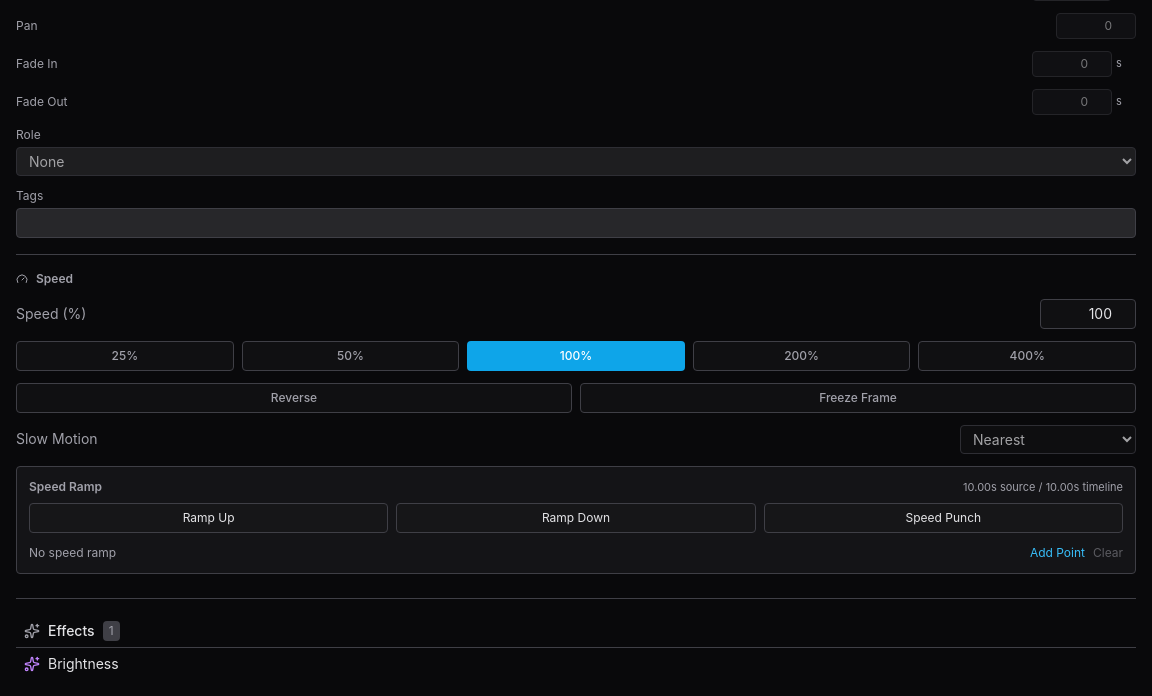
Test case: Inspector › renders the selected effect inspector after choosing an effect
This screenshot has width=1152, height=696.
(page scrolled)
Click the list item with test id "effect-item-effect-1": (71, 664) [24,655,119,672]
(page scrolled)
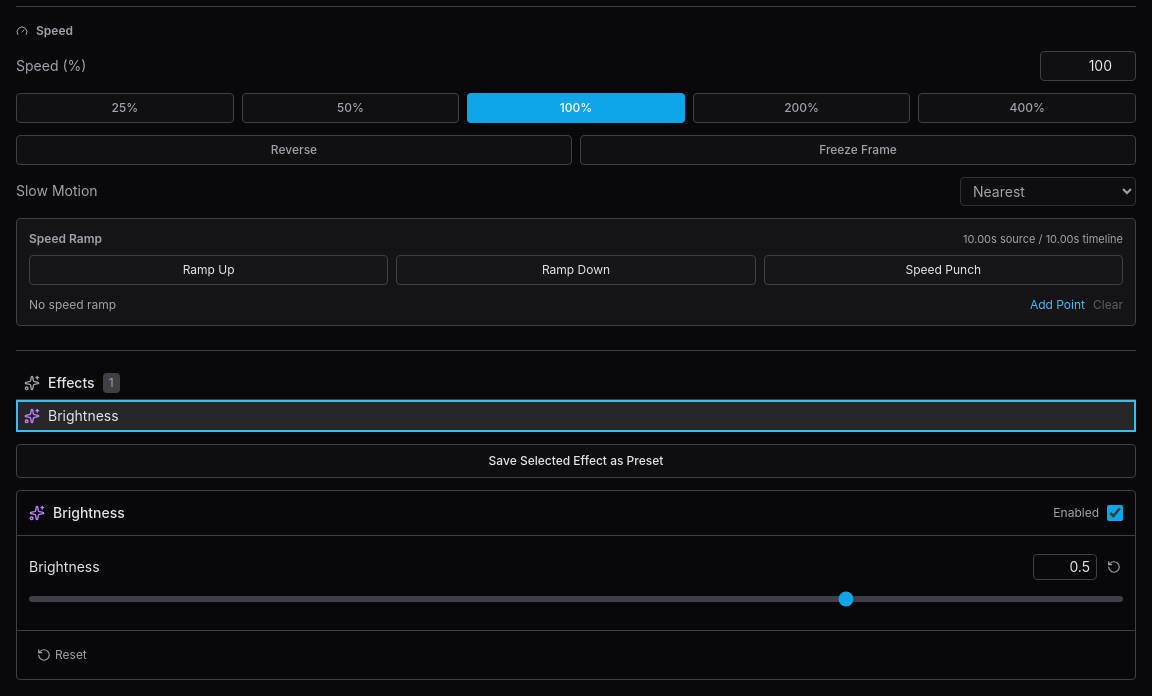
Now the element with test id "effect-inspector" is shown, box [16,490,1136,680]
Now the field labelled "Brightness" is shown, box [1033,554,1097,580]
